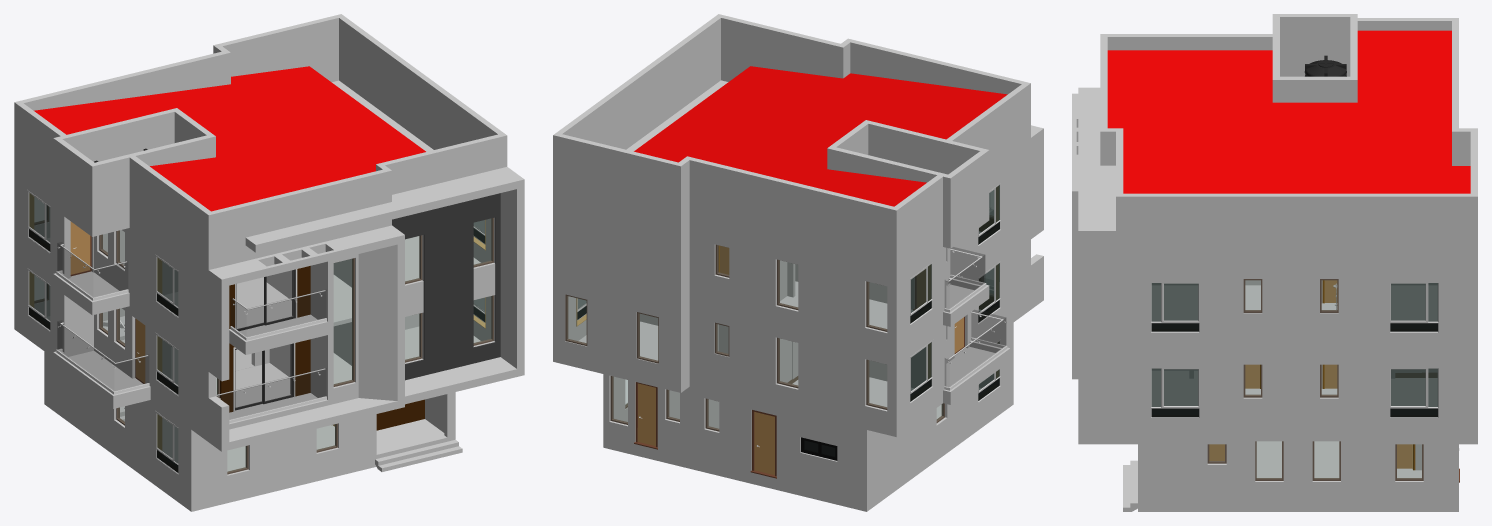
File: Mun5.glb
3 views of the same model, side by side, from view 1: azimuth 30°, elevation 25°; view 2: azimuth 150°, elevation 25°; view 3: azimuth 270°, elevation 25° (orthographic). The views are drawn at different scales.
Size of the model in its own units: 13.77 by 11.85 by 12.92.
